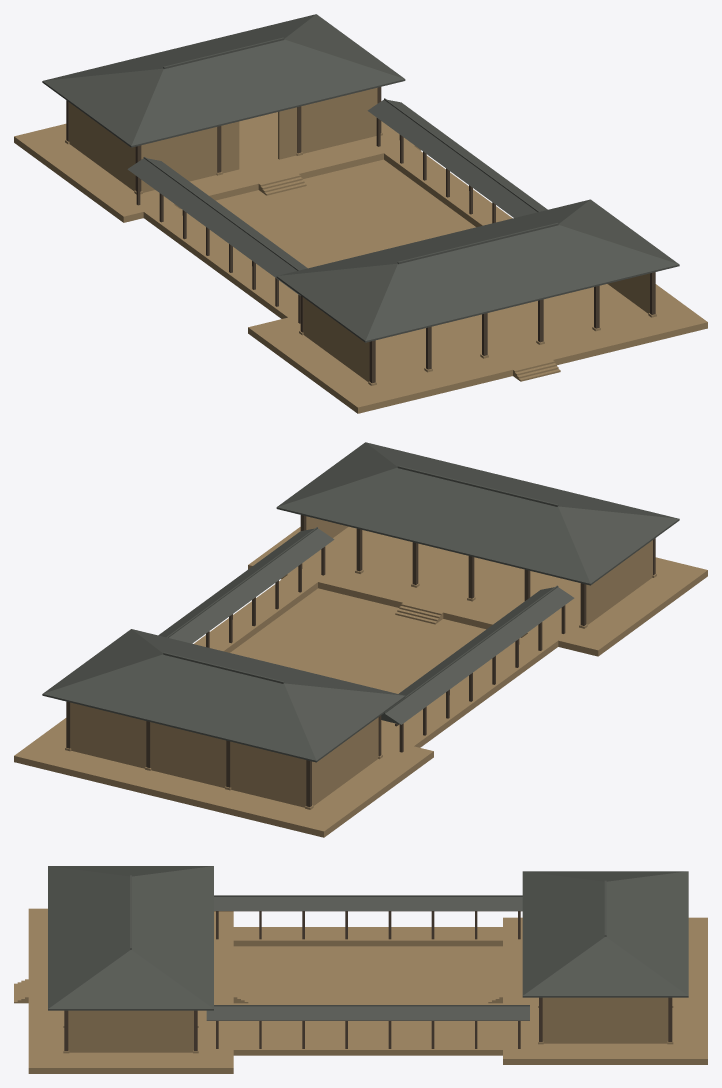
The model's file is yutang-A-LOD2.glb.
The picture shows the model from 3 angles, top to bottom: view 1: azimuth 30°, elevation 25°; view 2: azimuth 150°, elevation 25°; view 3: azimuth 270°, elevation 25°; orthographic projection. The views are drawn at different scales.
Visible parts, largest first — view 1: yutang-A-static_earth, yutang-A-static_tile, yutang-A-static_timber; view 2: yutang-A-static_earth, yutang-A-static_tile, yutang-A-static_timber; view 3: yutang-A-static_earth, yutang-A-static_tile, yutang-A-static_timber.
Part boxes in pixels (box(x1,y1,x2,y2)): yutang-A-static_earth: box(14, 87, 707, 413); yutang-A-static_tile: box(42, 14, 679, 342); yutang-A-static_timber: box(66, 87, 655, 383); yutang-A-static_earth: box(14, 516, 707, 837); yutang-A-static_tile: box(42, 442, 679, 762); yutang-A-static_timber: box(66, 515, 655, 806); yutang-A-static_earth: box(14, 908, 707, 1073); yutang-A-static_tile: box(48, 866, 688, 1020); yutang-A-static_timber: box(64, 911, 672, 1050).
Size of the model in its own units: 35 by 9.08 by 64.36.
